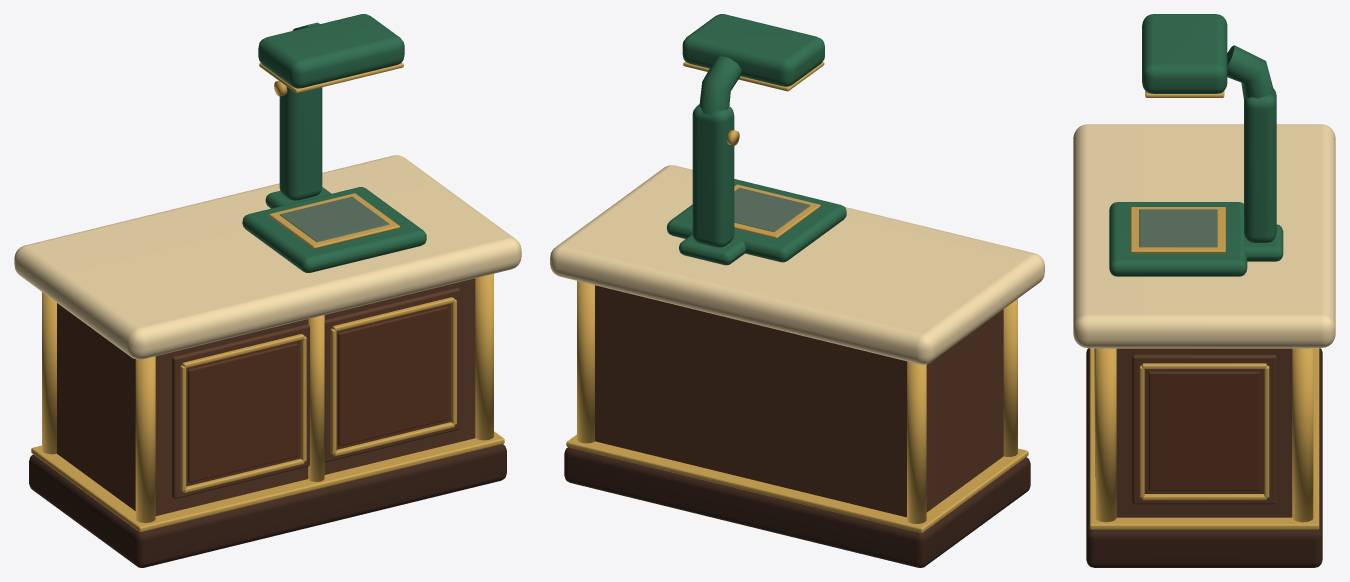
File: id_desk.glb
The picture shows the model from 3 angles, left to right: view 1: azimuth 30°, elevation 25°; view 2: azimuth 150°, elevation 25°; view 3: azimuth 270°, elevation 25°; orthographic projection. The views are drawn at different scales.
Parts seen in each view (by area): view 1: Top, Body, Plinth, Front1Inset, Front0Inset, LampHead, PlinthBrass, ScanPad, Front0, ArmCol, Front1, Column-1-1 (+14 smaller); view 2: Body, Top, Plinth, LampHead, PlinthBrass, ArmCol, ScanPad, Column-11, Column11, Column-1-1, ScanWindow, ArmBend (+2 smaller); view 3: Top, EndInset, Plinth, Body, LampHead, End, ScanPad, PlinthBrass, ArmCol, Column1-1, Column11, ScanWindow (+8 smaller).
Boxes of the visible parts, <box> form: Top: <box>14,155,521,359</box>; Body: <box>57,278,475,515</box>; Plinth: <box>29,444,506,567</box>; Front1Inset: <box>338,306,448,446</box>; Front0Inset: <box>188,343,297,482</box>; LampHead: <box>258,14,404,88</box>; PlinthBrass: <box>31,431,504,532</box>; ScanPad: <box>242,187,426,272</box>; Front0: <box>172,324,309,498</box>; ArmCol: <box>279,87,322,200</box>; Front1: <box>324,287,460,462</box>; Column-1-1: <box>135,356,155,522</box>; Body: <box>595,285,1003,517</box>; Top: <box>550,165,1044,364</box>; Plinth: <box>564,447,1030,567</box>; LampHead: <box>682,14,824,86</box>; PlinthBrass: <box>566,434,1028,533</box>; ArmCol: <box>692,104,734,247</box>; ScanPad: <box>667,179,846,262</box>; Column-11: <box>907,361,926,523</box>; Column11: <box>577,281,594,443</box>; Column-1-1: <box>1003,299,1017,456</box>; ScanWindow: <box>734,188,810,232</box>; ArmBend: <box>699,56,741,114</box>; Top: <box>1073,124,1335,348</box>; EndInset: <box>1148,371,1260,490</box>; Plinth: <box>1086,348,1322,567</box>; Body: <box>1116,348,1292,517</box>; LampHead: <box>1142,14,1227,93</box>; End: <box>1132,354,1276,504</box>; ScanPad: <box>1109,202,1247,276</box>; PlinthBrass: <box>1089,348,1319,529</box>; ArmCol: <box>1244,88,1276,242</box>; Column1-1: <box>1095,348,1116,522</box>; Column11: <box>1292,348,1313,522</box>; ScanWindow: <box>1139,209,1217,247</box>.
Bounding box in the file's own units: 1.45 × 1.56 × 0.8.
